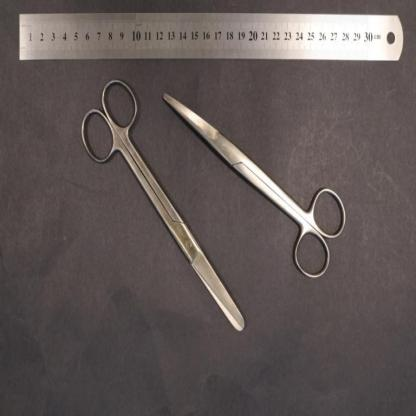Curved Mayo Scissors: (162, 91, 348, 278)
Dressing Scissors: (80, 75, 245, 332)
